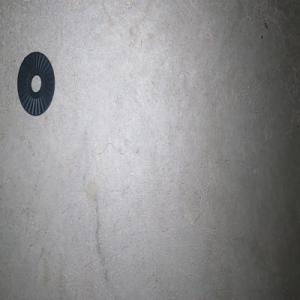Washer: (17, 51, 54, 115)
